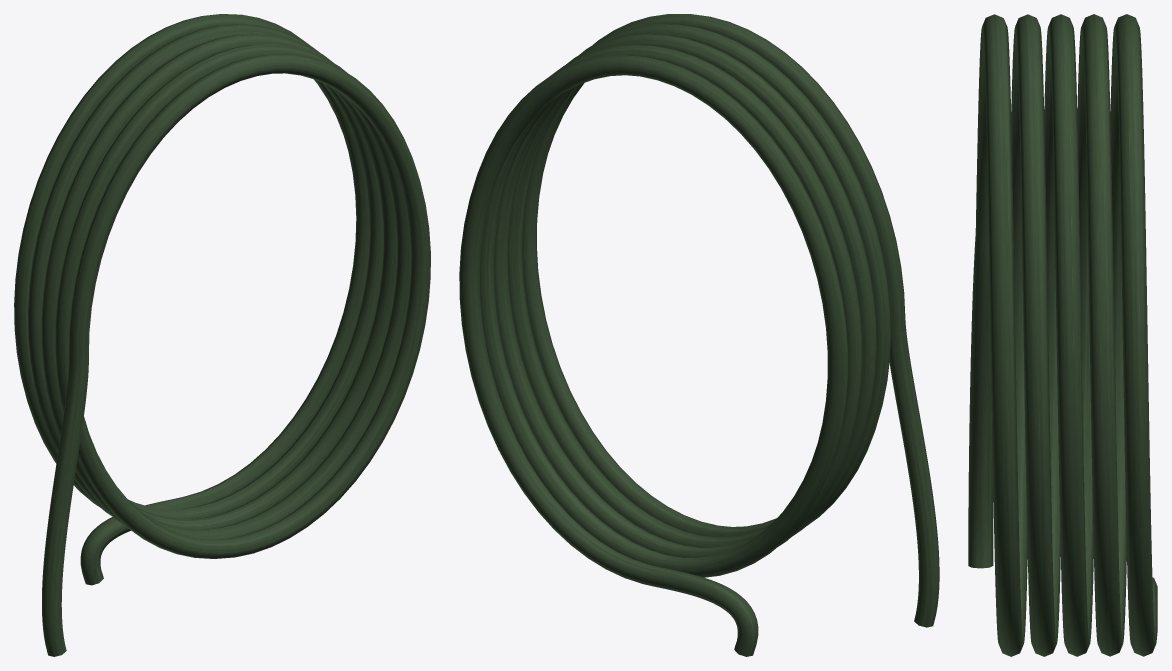
File: stored_hose.glb
3 views of the same model, side by side, from view 1: azimuth 30°, elevation 25°; view 2: azimuth 150°, elevation 25°; view 3: azimuth 270°, elevation 25° (orthographic). The views are drawn at different scales.
Parts seen in each view (by area): view 1: stored_hose; view 2: stored_hose; view 3: stored_hose.
Boxes of the visible parts, <box> form: stored_hose: <box>14,14,430,656</box>; stored_hose: <box>459,14,939,656</box>; stored_hose: <box>968,14,1157,656</box>.
Size of the model in its own units: 0.4436 by 0.583 by 0.152.
Materials: 1 (1 with a texture image).
